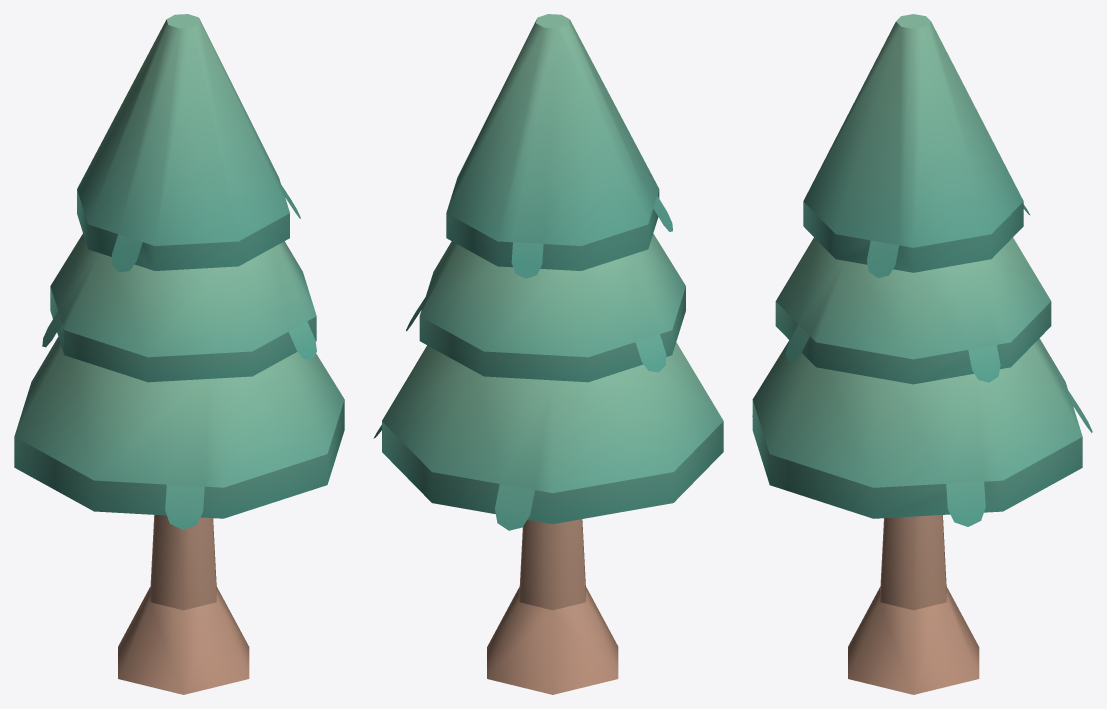
Rendered from tree-large.glb.
3 renders of one model, left to right at view 1: azimuth 30°, elevation 25°; view 2: azimuth 150°, elevation 25°; view 3: azimuth 270°, elevation 25°, orthographic.
Visible parts, largest first — view 1: tree-large; view 2: tree-large; view 3: tree-large.
Boxes of the visible parts, x1=… form: tree-large: x1=14, y1=14, x2=344, y2=694; tree-large: x1=373, y1=14, x2=723, y2=694; tree-large: x1=752, y1=14, x2=1092, y2=694.
Size of the model in its own units: 0.8887 by 1.85 by 0.8898.
